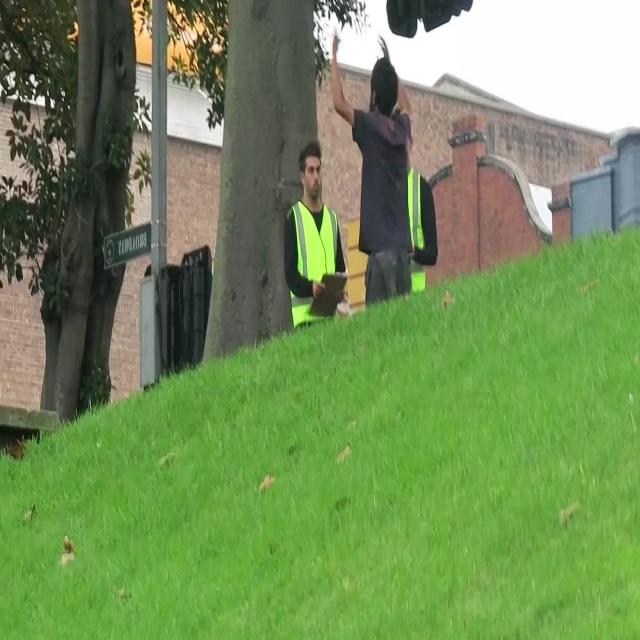Reflective-Jacket: (281, 196, 345, 328)
